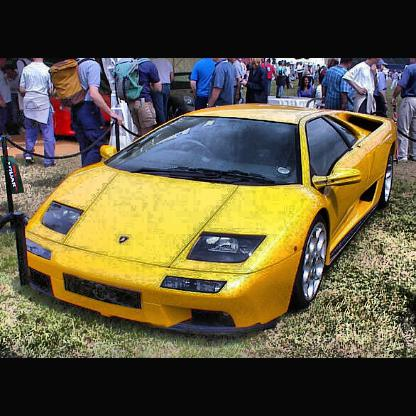Lamborghini Diablo Coupe 2001: (23, 102, 401, 335)
